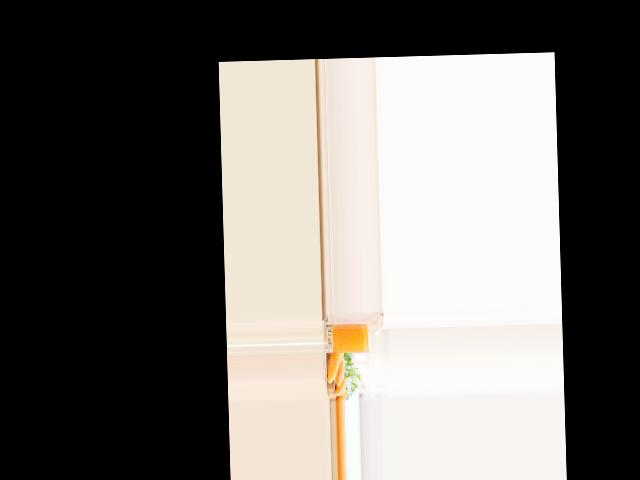carrot: (336, 370, 347, 396)
